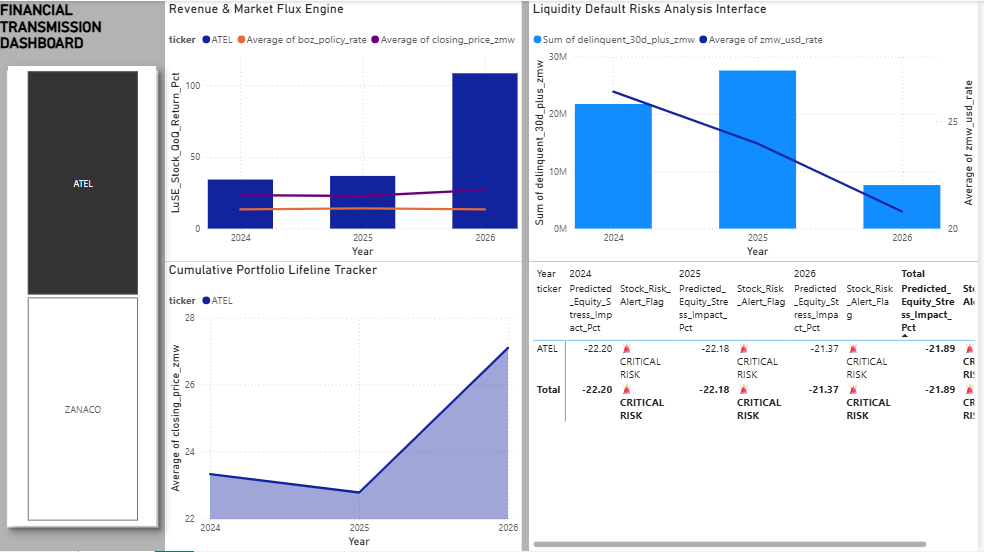

What the dashboard file says about the page in this screenshot:
{"tool":"powerbi","page":{"name":"Page 1","canvas":[1280,720],"ordinal":0},"visuals":[{"type":"shape","title":"FINANCIAL TRANSMISSION DASHBOARD","box":[0,0,216,698],"z":0},{"type":"lineStackedColumnComboChart","title":"Revenue & Market Flux Engine","fields":{"Category":["financial_zambian_data.record_date.Variation.Date Hierarchy.Year","financial_zambian_data.record_date.Variation.Date Hierarchy.Quarter","financial_zambian_data.record_date.Variation.Date Hierarchy.Month","financial_zambian_data.record_date.Variation.Date Hierarchy.Day"],"Y":["financial_zambian_data.LuSE_Stock_QoQ_Return_Pct"],"Y2":["Avg(financial_zambian_data.boz_policy_rate)","Avg(financial_zambian_data.closing_price_zmw)"],"Series":["financial_zambian_data.ticker"]},"box":[216,0,466.6,341.3],"z":1000},{"type":"areaChart","title":"Cumulative Portfolio Lifeline Tracker","fields":{"Category":["financial_zambian_data.record_date.Variation.Date Hierarchy.Year","financial_zambian_data.record_date.Variation.Date Hierarchy.Quarter","financial_zambian_data.record_date.Variation.Date Hierarchy.Month","financial_zambian_data.record_date.Variation.Date Hierarchy.Day"],"Y":["Avg(financial_zambian_data.closing_price_zmw)"],"Series":["financial_zambian_data.ticker"]},"box":[216,341.3,467,379],"z":2000},{"type":"lineStackedColumnComboChart","title":"Liquidity Default Risks Analysis Interface","fields":{"Category":["financial_zambian_data.record_date.Variation.Date Hierarchy.Year","financial_zambian_data.record_date.Variation.Date Hierarchy.Quarter","financial_zambian_data.record_date.Variation.Date Hierarchy.Month","financial_zambian_data.record_date.Variation.Date Hierarchy.Day"],"Y":["Sum(financial_zambian_data.delinquent_30d_plus_zmw)"],"Y2":["Avg(financial_zambian_data.zmw_usd_rate)"]},"box":[692.6,0,587.5,341.3],"z":3000},{"type":"pivotTable","fields":{"Rows":["financial_zambian_data.ticker"],"Columns":["financial_zambian_data.record_date.Variation.Date Hierarchy.Year","financial_zambian_data.record_date.Variation.Date Hierarchy.Quarter","financial_zambian_data.record_date.Variation.Date Hierarchy.Month","financial_zambian_data.record_date.Variation.Date Hierarchy.Day"],"Values":["financial_zambian_data.Predicted_Equity_Stress_Impact_Pct","financial_zambian_data.Stock_Risk_Alert_Flag"]},"box":[692.6,341.3,587.5,378.7],"z":4000},{"type":"slicer","fields":{"Values":["financial_zambian_data.ticker"]},"box":[10.1,85,194.4,601.9],"z":5000}]}

Visuals, with their boxes in screenshot pixels (x1, y1, x2, y2), scaled from the page's 1280x720 canvas onto the 984x552 screenshot:
"FINANCIAL TRANSMISSION DASHBOARD" shape: bbox(0, 0, 166, 535)
"Revenue & Market Flux Engine" lineStackedColumnComboChart: bbox(166, 0, 525, 262)
"Cumulative Portfolio Lifeline Tracker" areaChart: bbox(166, 262, 525, 551)
"Liquidity Default Risks Analysis Interface" lineStackedColumnComboChart: bbox(532, 0, 983, 262)
pivotTable - financial_zambian_data.ticker x financial_zambian_data.record_date.Variation.Date Hierarchy.Year: bbox(532, 262, 983, 551)
slicer - financial_zambian_data.ticker: bbox(8, 65, 157, 527)
